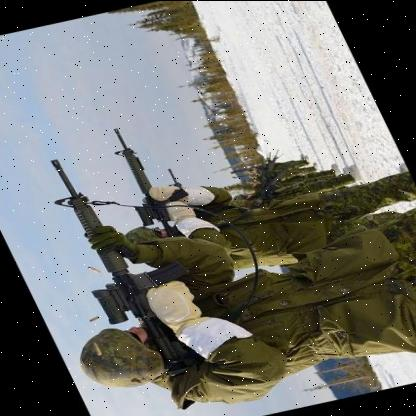rifle: (32, 148, 212, 380), (92, 117, 196, 240)
